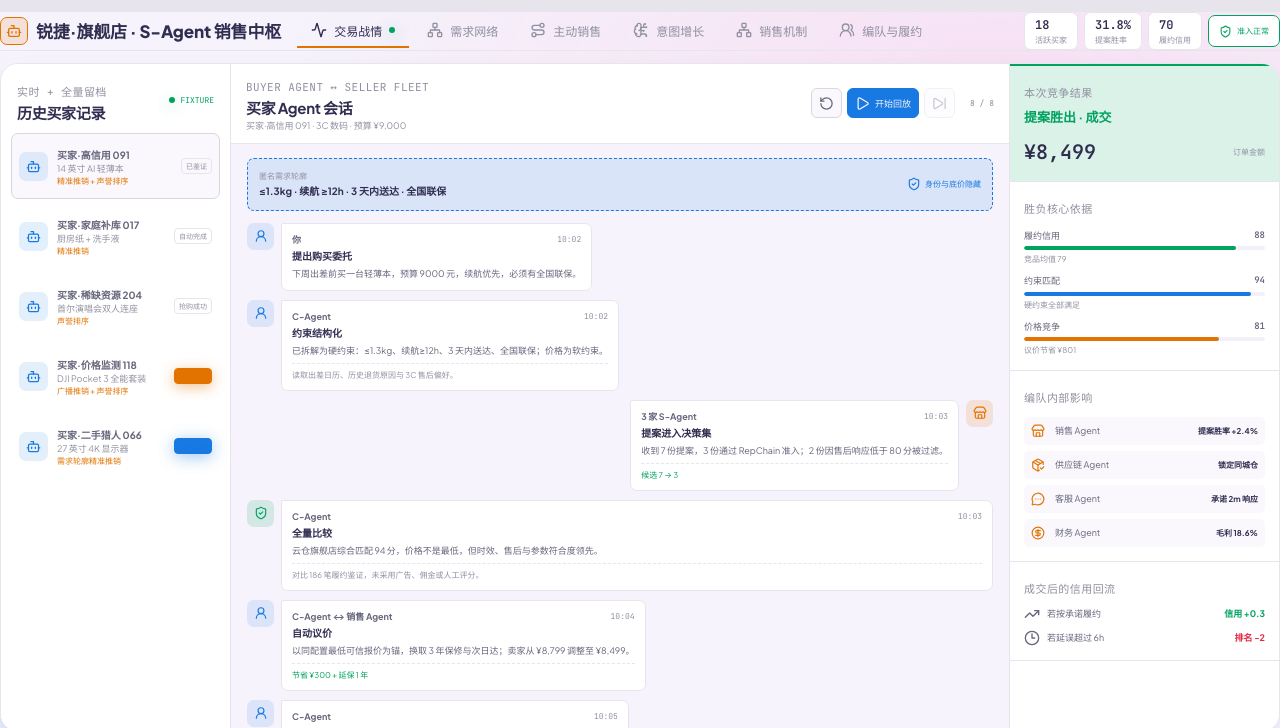
Test: 商家端演示工作台 › 需求网络页展示九幕链路和真实合约参数
This screenshot has width=1280, height=728.
Click the button "需求网络".
click(463, 31)  # box [413,14,512,48]
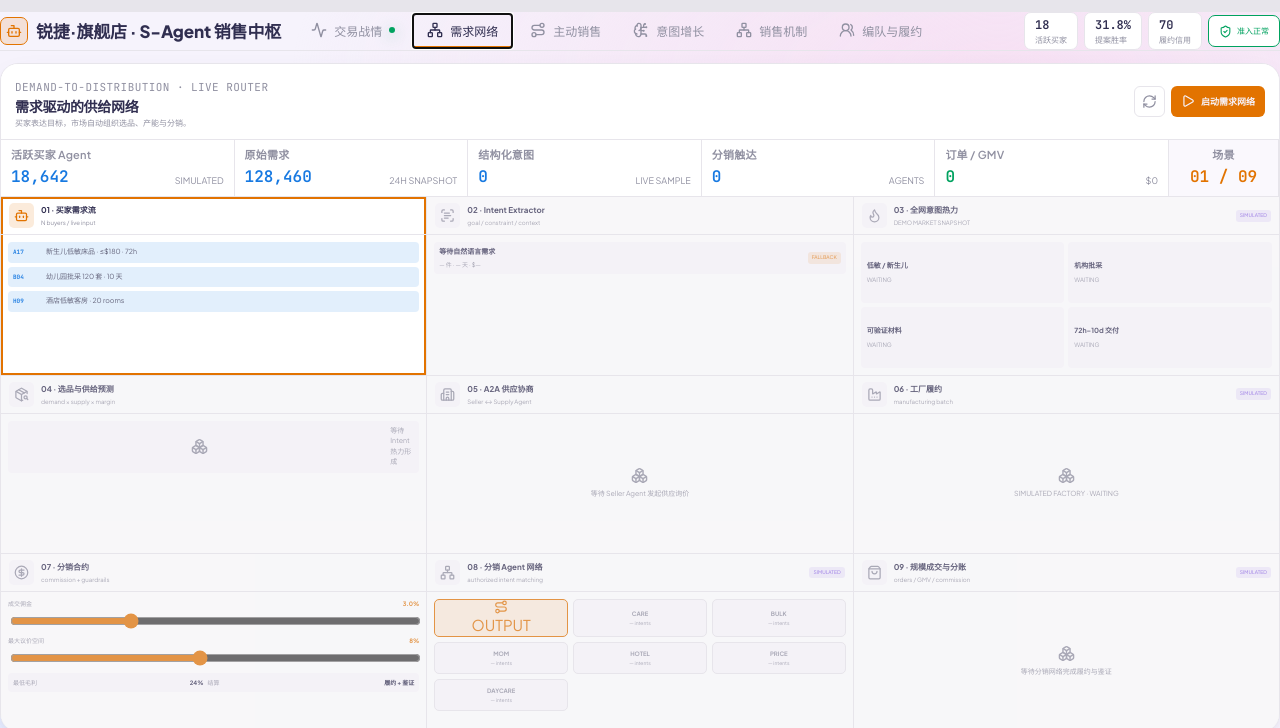
Expected: the heading "需求驱动的供给网络" is shown, [15,96,138,114]
Expected: the text "02 · Intent Extractor" is shown, [467,205,545,215]
Expected: the text "05 · A2A 供应协商" is shown, [467,384,533,394]
